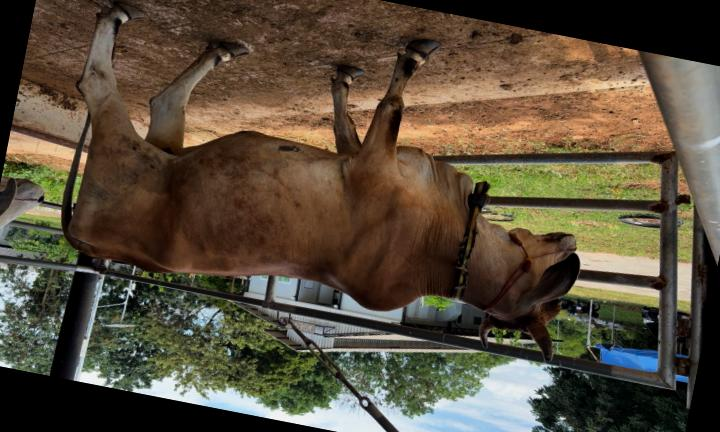Brahman: (62, 3, 579, 361)
